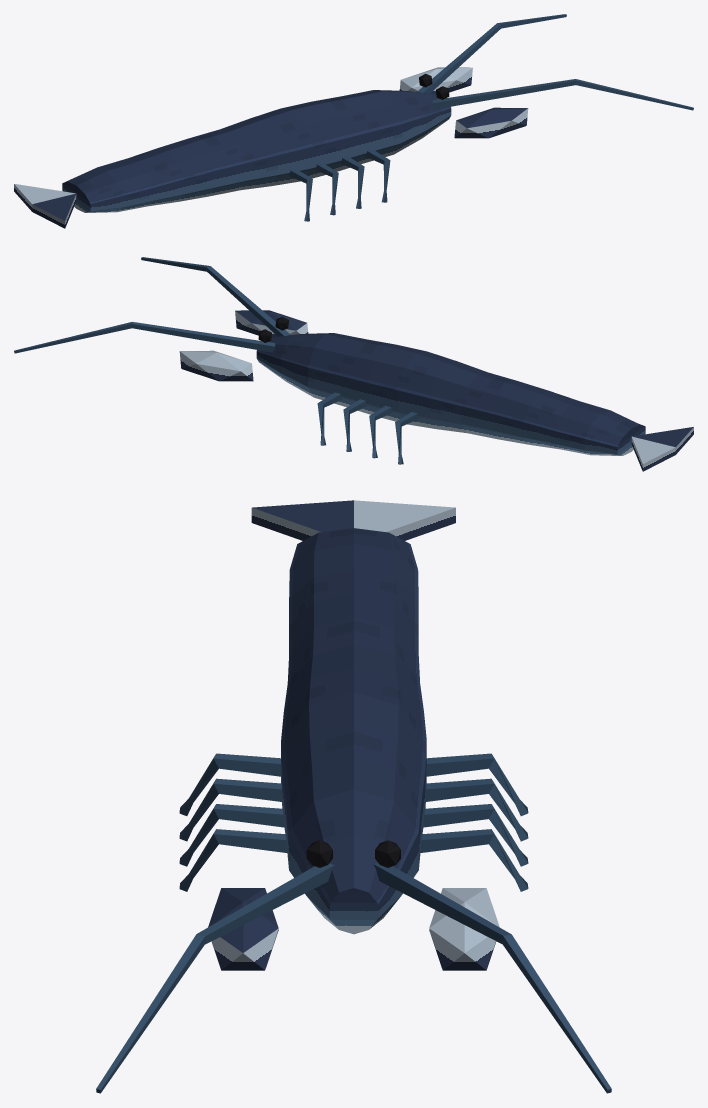
File: marron.glb
3 views of the same model, one above another, from view 1: azimuth 30°, elevation 25°; view 2: azimuth 150°, elevation 25°; view 3: azimuth 270°, elevation 25° (orthographic). The views are drawn at different scales.
Visible parts, largest first — view 1: fish_marron; view 2: fish_marron; view 3: fish_marron.
Boxes of the visible parts, bbox=[...] form: fish_marron: bbox=[14, 14, 693, 228]; fish_marron: bbox=[14, 257, 693, 471]; fish_marron: bbox=[96, 500, 611, 1093].
Bounding box in the file's own units: 1.62 × 0.1934 × 0.6055.
3 materials, 1 textured.
